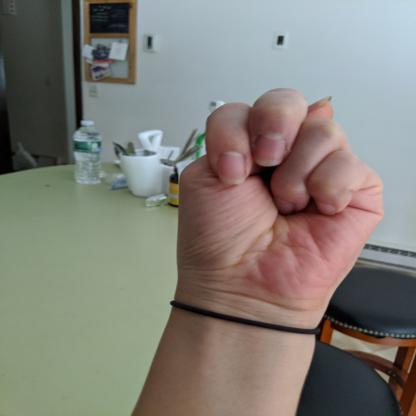N: (170, 85, 389, 321)
